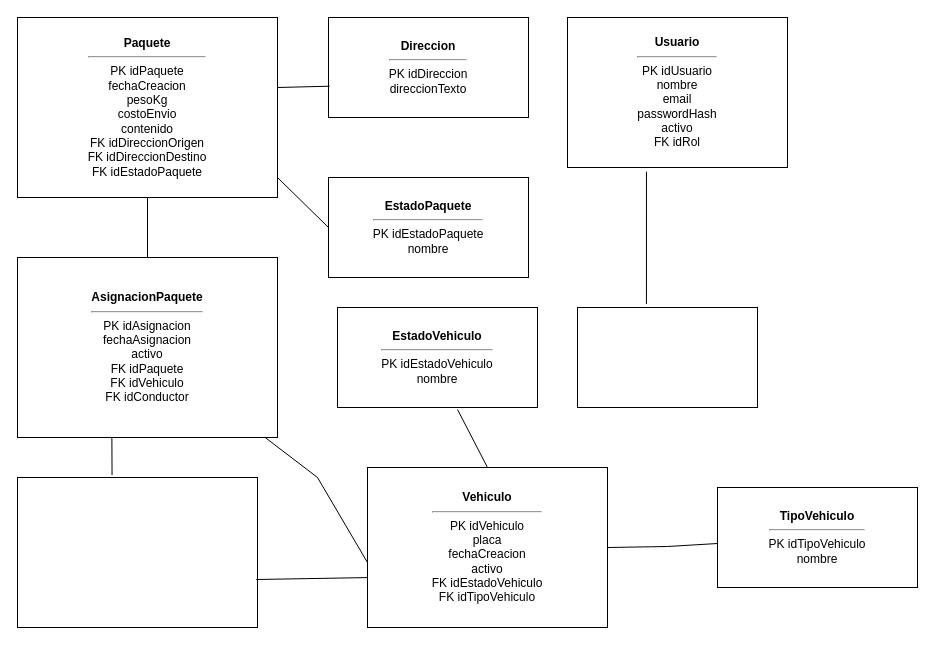
Some shapes in this 935 by 645 pixel diagram are drawn without their labels. Here are the shapes that lost their labels. From the top down, the centre of each, then its label:
At (667,357): "Rol PK idRol nombre".
At (137,552): "Conductor PK idConductor nombre telefono licencia FK idVehiculo".
